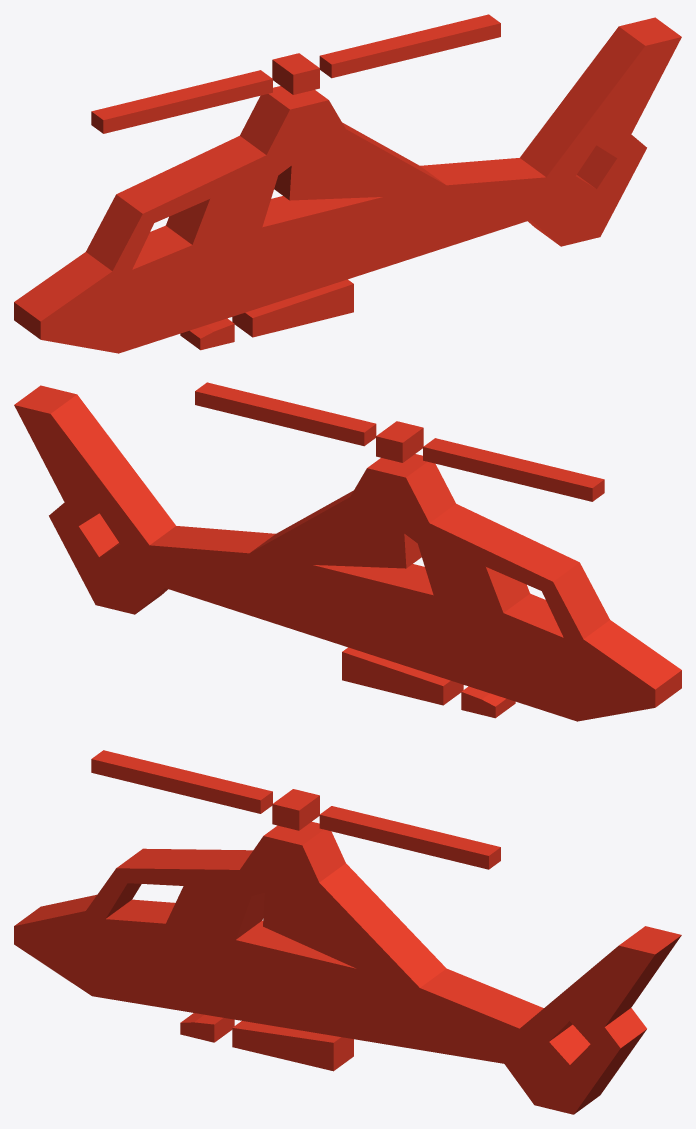
The model's file is Icon_Helicopter.fbx.
3 renders of one model, top to bottom at view 1: azimuth 30°, elevation 25°; view 2: azimuth 150°, elevation 25°; view 3: azimuth 330°, elevation 25°, orthographic.
Parts seen in each view (by area): view 1: Icon_Helicopter; view 2: Icon_Helicopter; view 3: Icon_Helicopter.
Part boxes in pixels (x1,y1,x2,y2): Icon_Helicopter: (14,14,681,353); Icon_Helicopter: (14,382,681,721); Icon_Helicopter: (14,750,681,1114).
Bounding box in the file's own units: 167 × 63.14 × 12.06.
